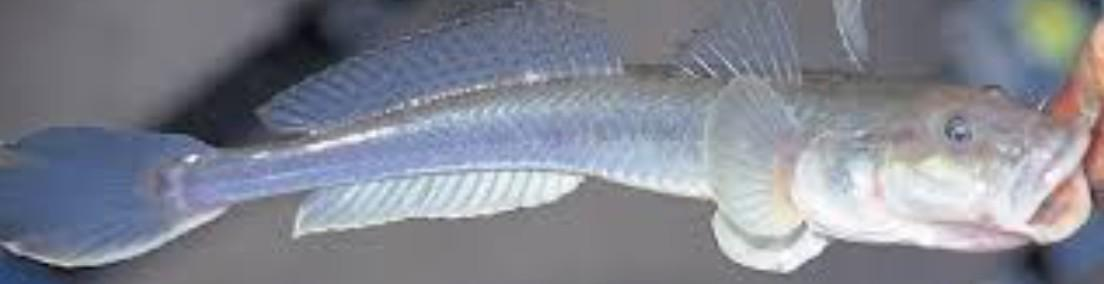fish: (0, 0, 1089, 270)
